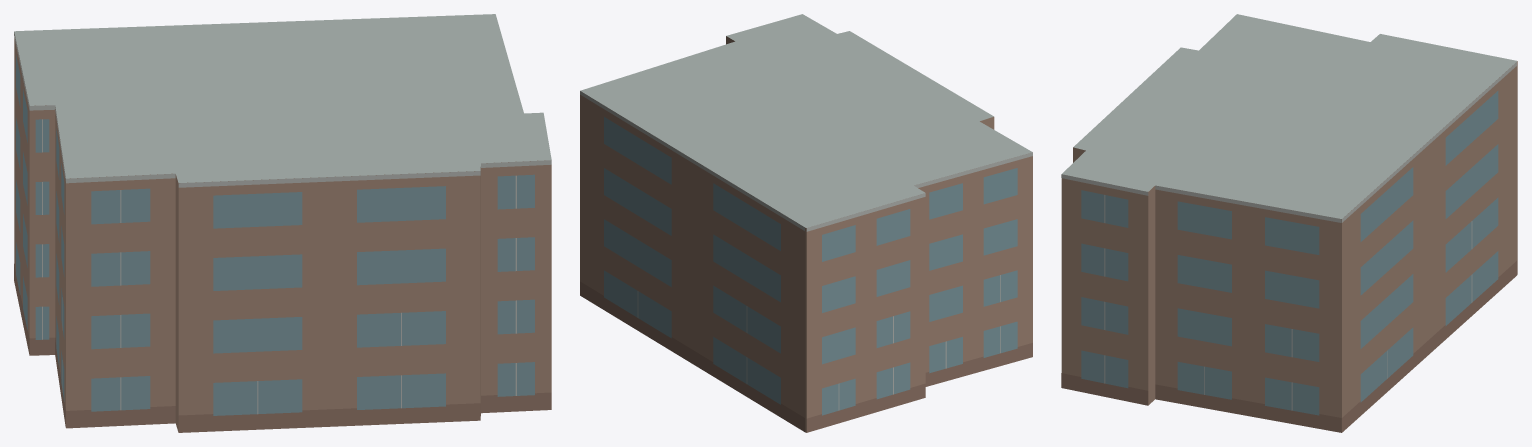
The model's file is survey-upis-32616082.glb.
The picture shows the model from 3 angles, left to right: view 1: azimuth 30°, elevation 25°; view 2: azimuth 150°, elevation 25°; view 3: azimuth 270°, elevation 25°; orthographic projection. The views are drawn at different scales.
Visible parts, largest first — view 1: survey-upis-32616082.tmp; view 2: survey-upis-32616082.tmp; view 3: survey-upis-32616082.tmp.
Part boxes in pixels (x1=…): survey-upis-32616082.tmp: x1=14, y1=14, x2=551, y2=432; survey-upis-32616082.tmp: x1=580, y1=14, x2=1032, y2=432; survey-upis-32616082.tmp: x1=1061, y1=14, x2=1517, y2=432.
Size of the model in its own units: 26.96 by 13.1 by 25.33.
